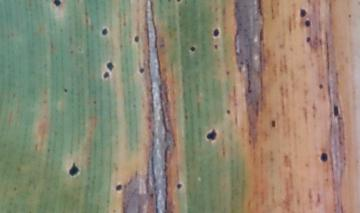tarspot: (205, 129, 218, 142), (68, 162, 79, 176), (330, 102, 340, 117), (210, 26, 220, 37), (318, 153, 330, 162), (303, 17, 312, 28), (105, 62, 115, 71), (245, 79, 251, 94), (132, 34, 141, 43), (173, 182, 183, 190), (299, 8, 307, 18), (101, 27, 109, 36), (137, 66, 146, 74), (189, 43, 196, 53), (53, 1, 62, 8), (114, 184, 123, 191), (101, 71, 110, 78), (270, 118, 276, 127), (346, 12, 353, 19), (148, 191, 155, 198), (305, 35, 311, 43), (225, 108, 231, 115), (213, 43, 219, 49), (63, 87, 68, 93), (318, 83, 324, 88), (225, 69, 230, 75), (176, 1, 181, 3)
